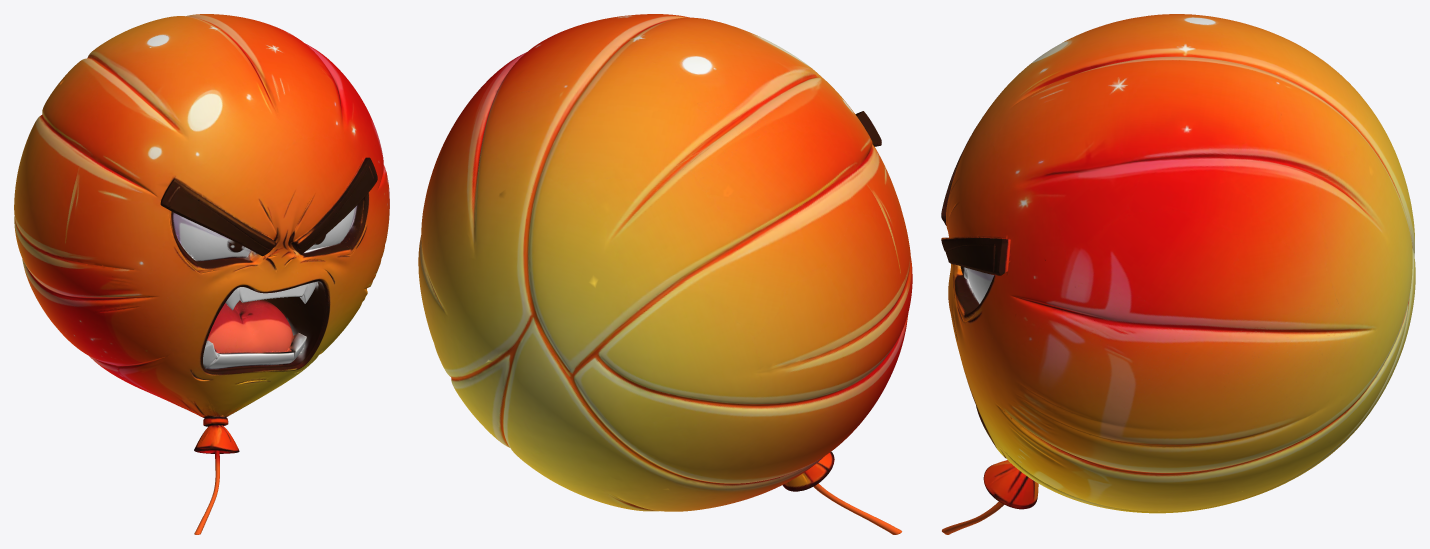
The model's file is 基础怪.glb.
The picture shows the model from 3 angles, left to right: view 1: azimuth 30°, elevation 25°; view 2: azimuth 150°, elevation 25°; view 3: azimuth 270°, elevation 25°; orthographic projection. The views are drawn at different scales.
Visible parts, largest first — view 1: node_0; view 2: node_0; view 3: node_0.
Boxes of the visible parts, bbox=[...] form: node_0: bbox=[14, 14, 389, 534]; node_0: bbox=[418, 14, 912, 534]; node_0: bbox=[941, 14, 1415, 534].
Size of the model in its own units: 0.7377 by 0.8973 by 0.6939.
Materials: 1 (1 with a texture image).
